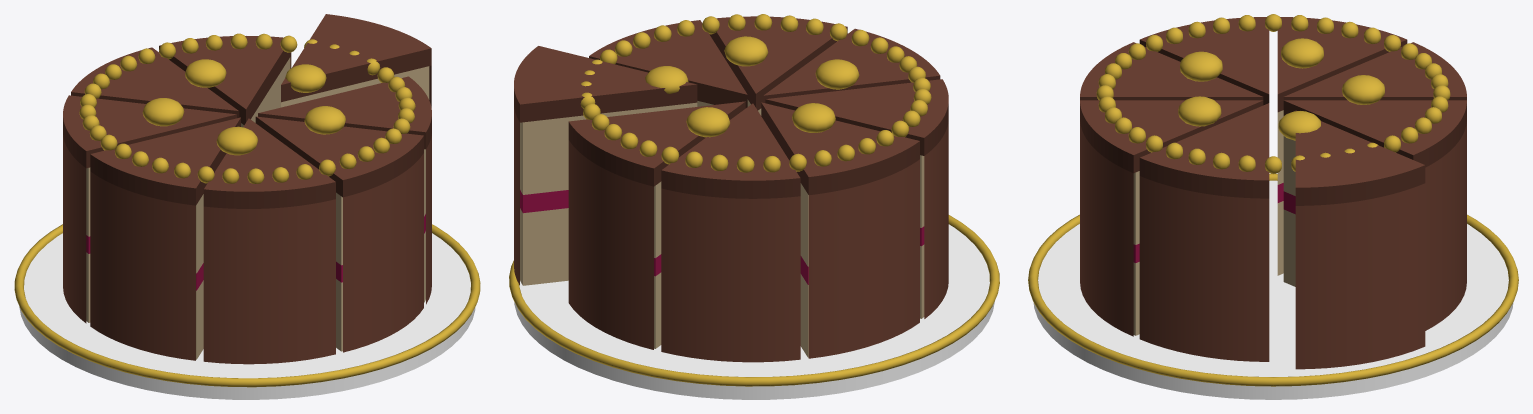
Rendered from torta-18cm-10alto-1p-8porc-chocolate.glb.
3 renders of one model, left to right at view 1: azimuth 30°, elevation 25°; view 2: azimuth 150°, elevation 25°; view 3: azimuth 270°, elevation 25°, orthographic. The views are drawn at different scales.
Bounding box in the file's own units: 0.245 × 0.1216 × 0.245.
